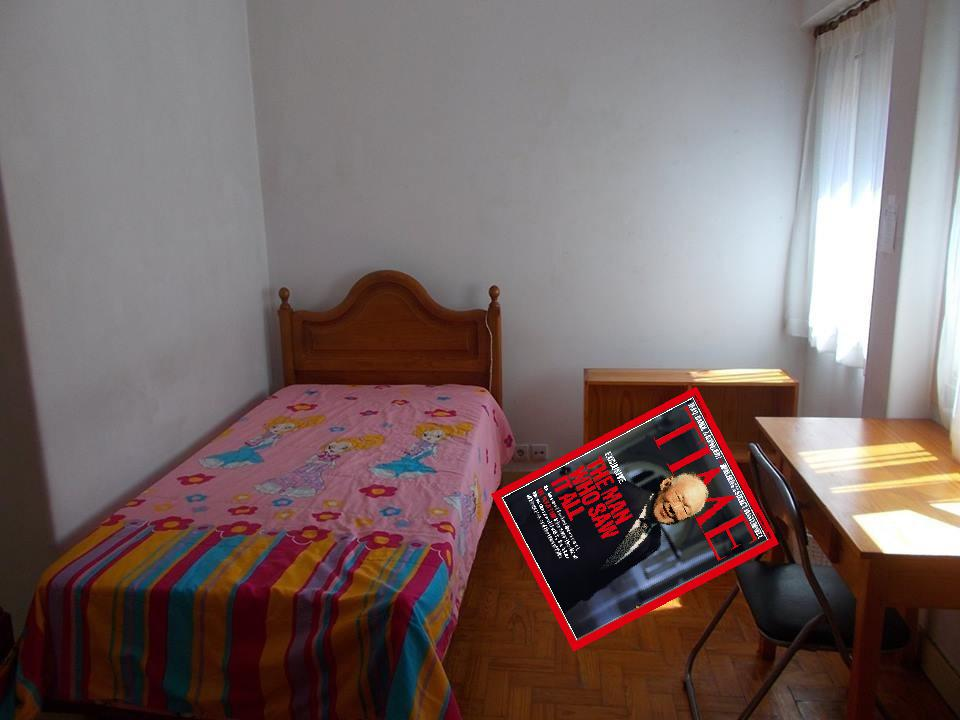times: (490, 386, 779, 658)
